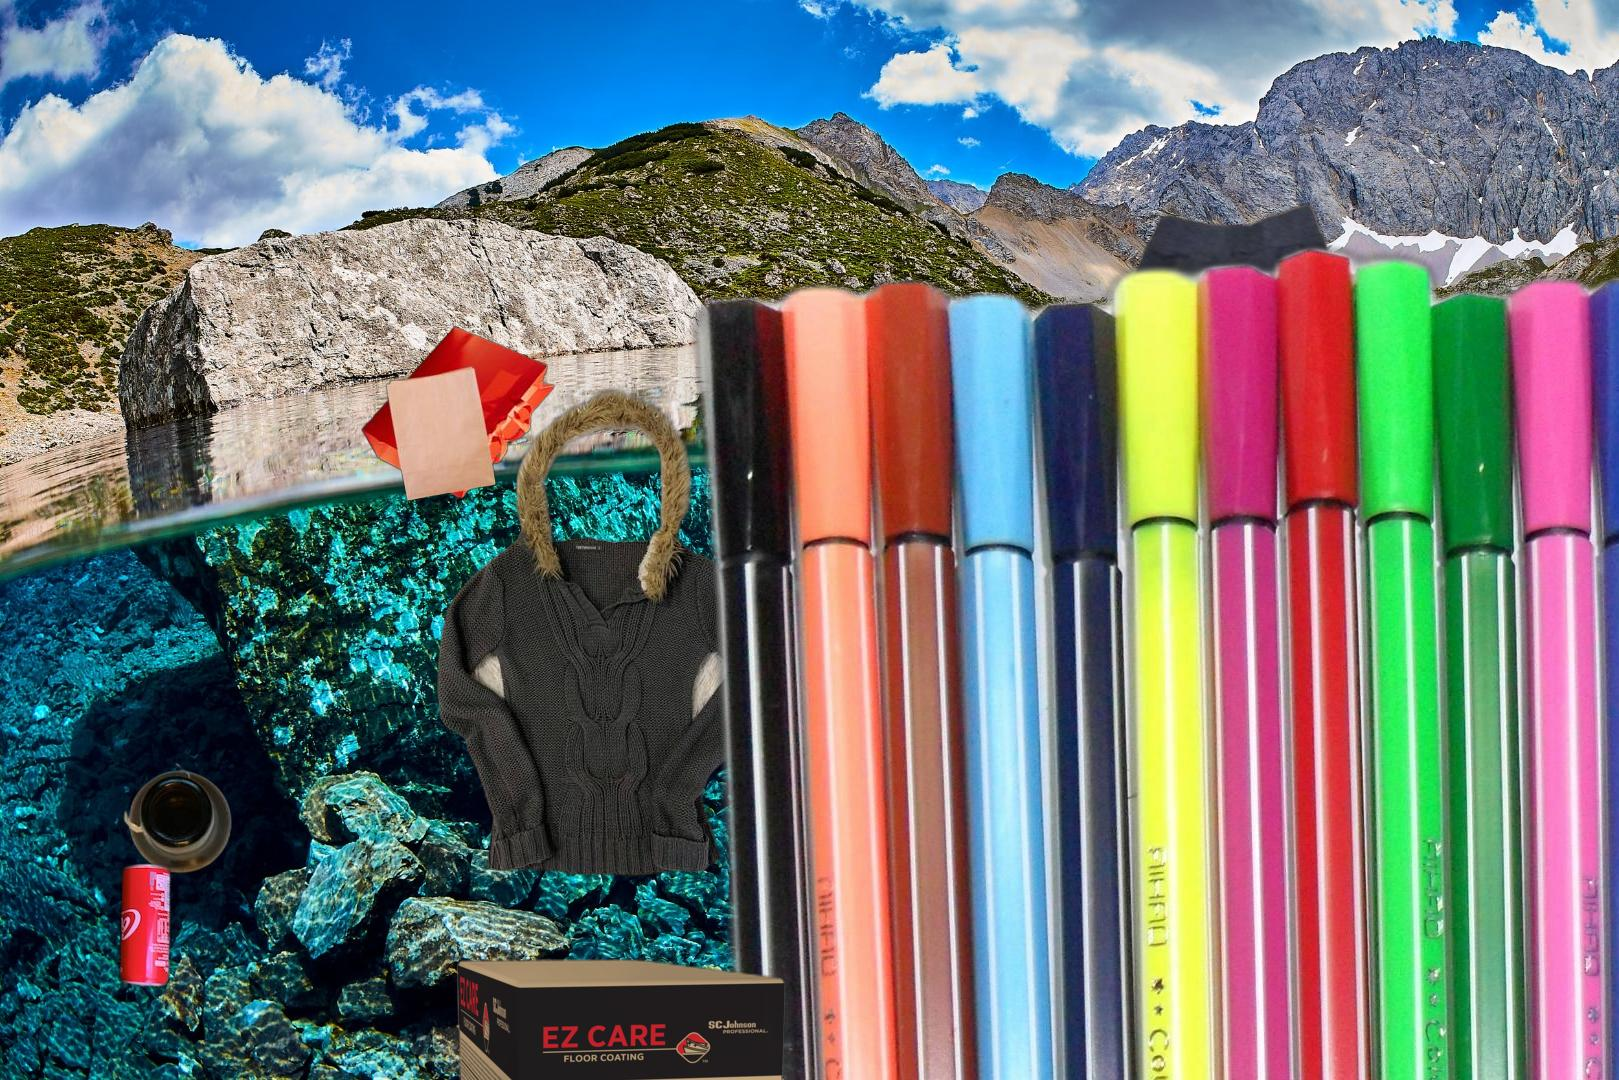battery: (835, 315, 1039, 465)
clothes: (434, 382, 775, 880), (1092, 199, 1362, 683)
glass: (119, 757, 235, 876)
metal-cans: (115, 857, 175, 994)
paper-bag: (359, 324, 557, 503)
penholder: (679, 231, 1619, 1080)
trashbox-cardboard: (451, 955, 790, 1080)
